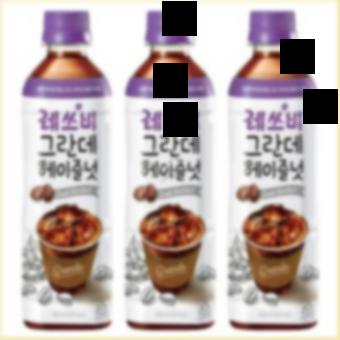letsbe_grande_hazelnut: (224, 9, 319, 332), (124, 10, 215, 332), (22, 10, 113, 331)
